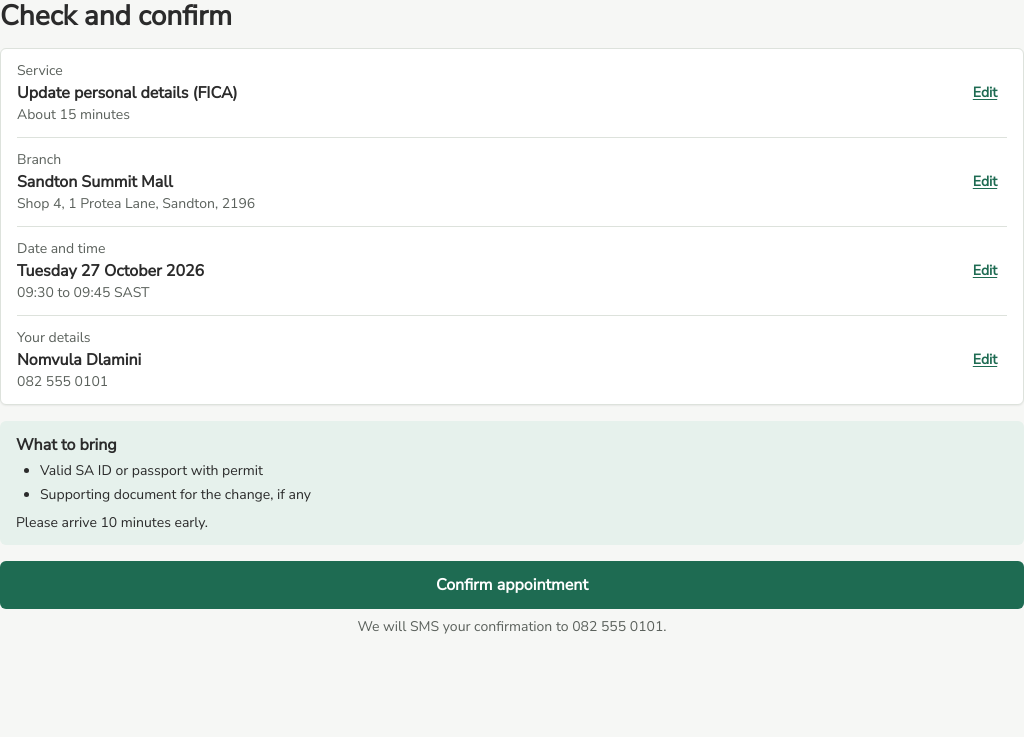
Test case: ReviewStep › sends MOBILE_NUMBER_REQUIRED back to the cellphone field on the details step
Click the button "Confirm appointment". click: (512, 585)
box: [0,561,1023,609]
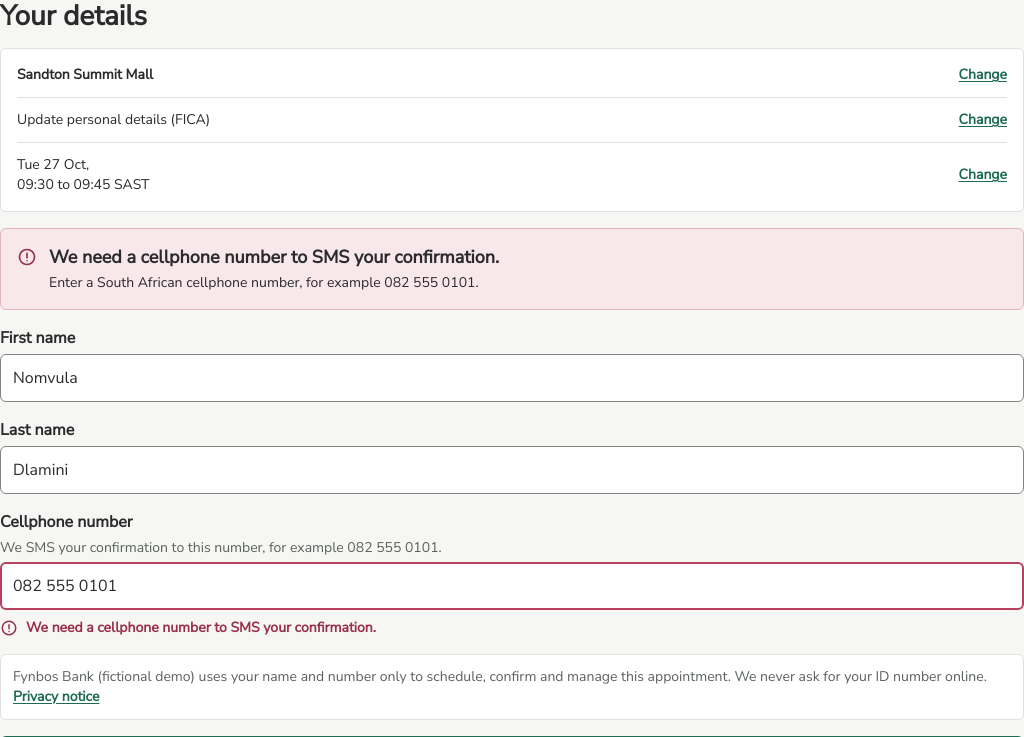
Now the message shows "We need a cellphone number to SMS your confirmation.", box [49,245,499,269]
